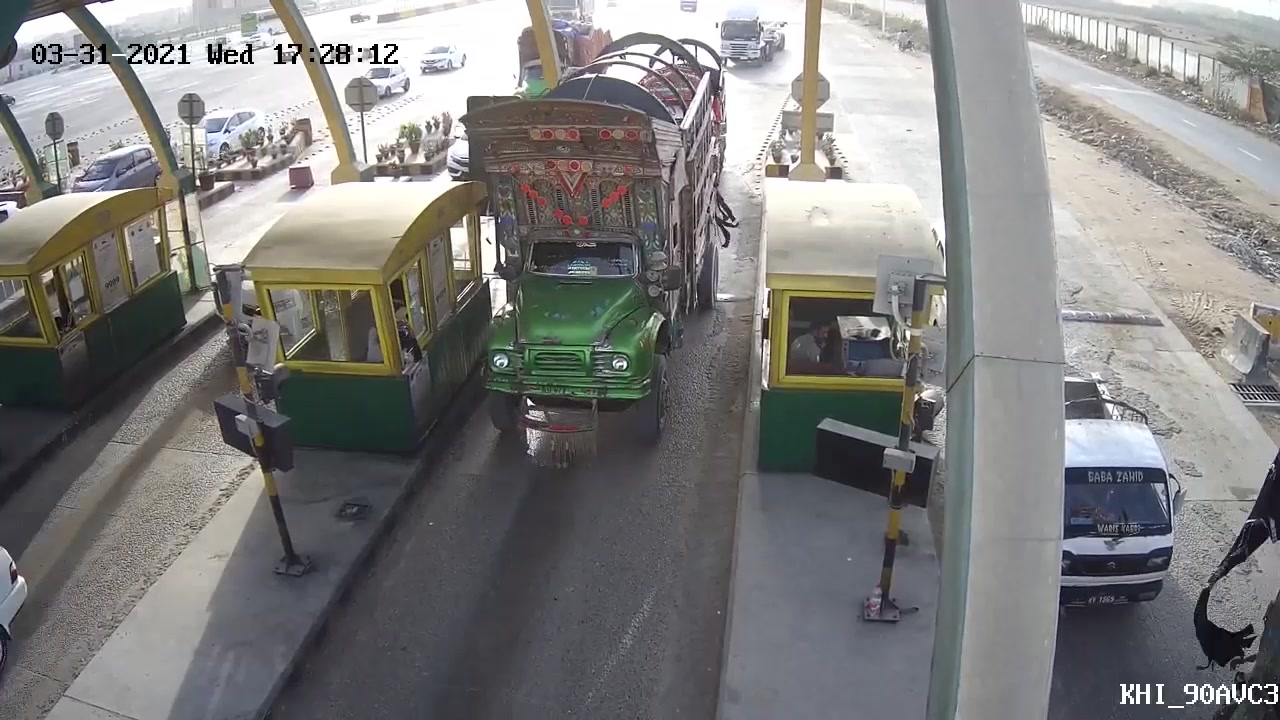F5: (459, 23, 736, 442)
